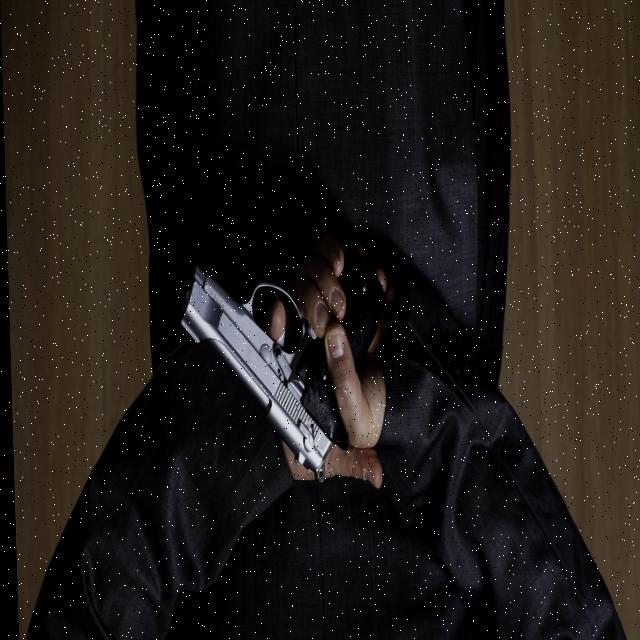pistol: (175, 258, 348, 478)
